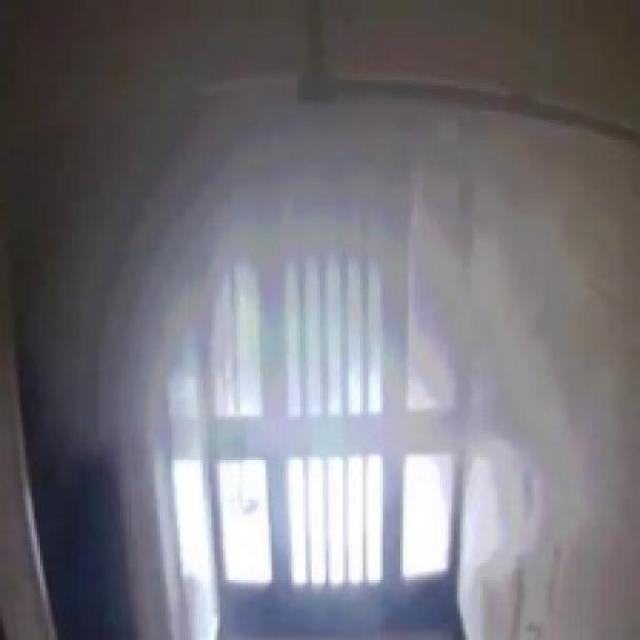Smoke: (96, 16, 568, 438)
